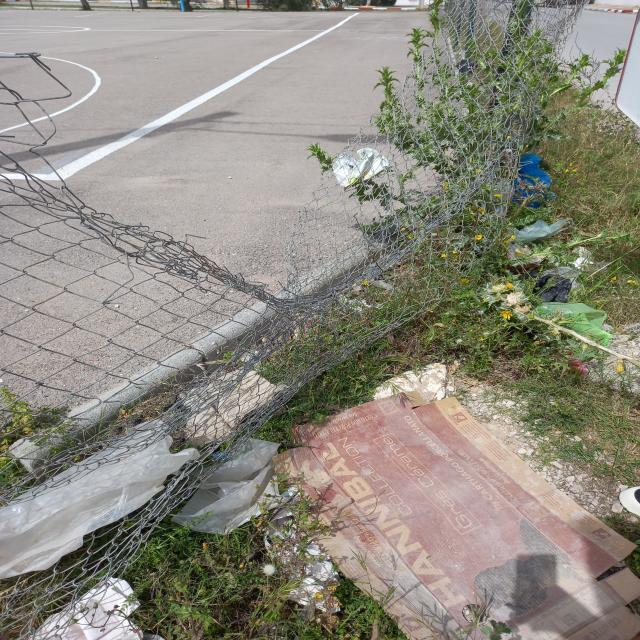fence line: (46, 91, 443, 300)
